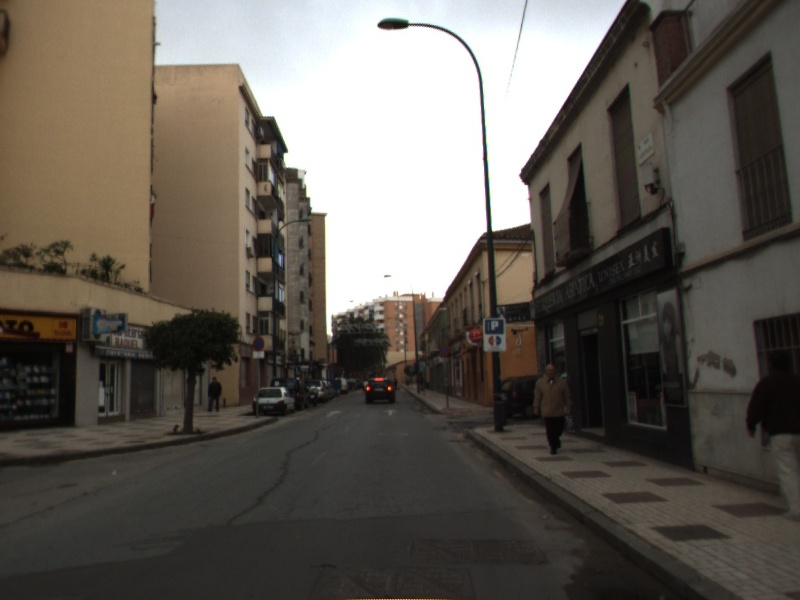STRAIGHT: (323, 408, 343, 419), (381, 407, 399, 417)
